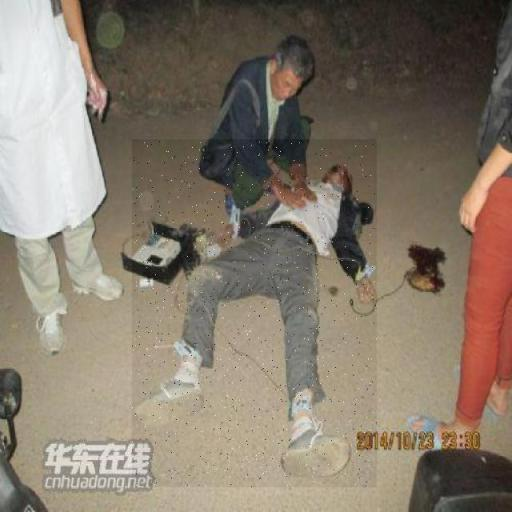Fall: (132, 139, 377, 487)
